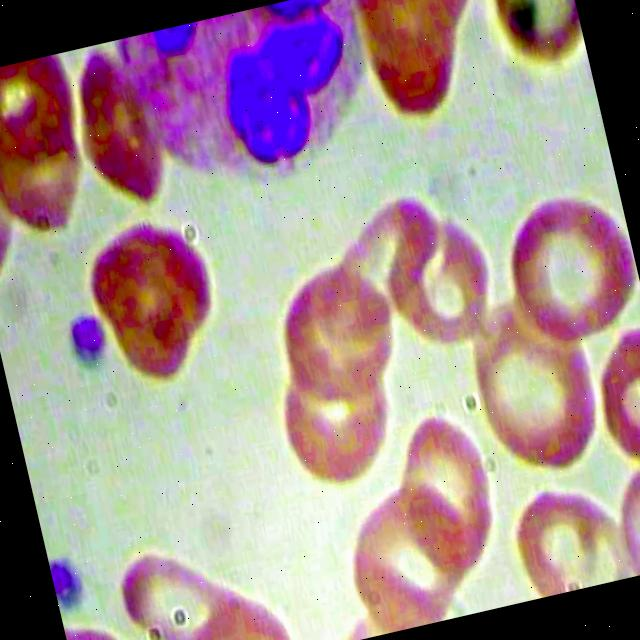Platelets: (55, 306, 122, 386), (44, 541, 98, 619)
RBC: (248, 235, 411, 414), (488, 171, 640, 353), (66, 210, 233, 365), (376, 398, 512, 588), (62, 34, 173, 216), (565, 318, 640, 474), (0, 51, 85, 174), (475, 0, 589, 84)
WBC: (116, 0, 412, 215)
